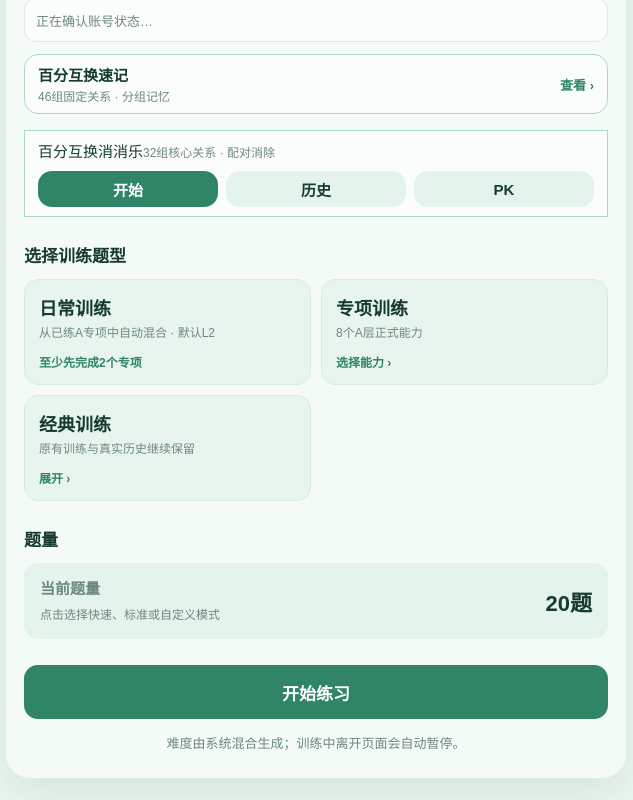
it: Home active-session interactions › starts a new active session and enters the training view when none exists
(page scrolled)
Click the button "开始练习" at (316, 692), box [24,665,608,719]
(page scrolled)
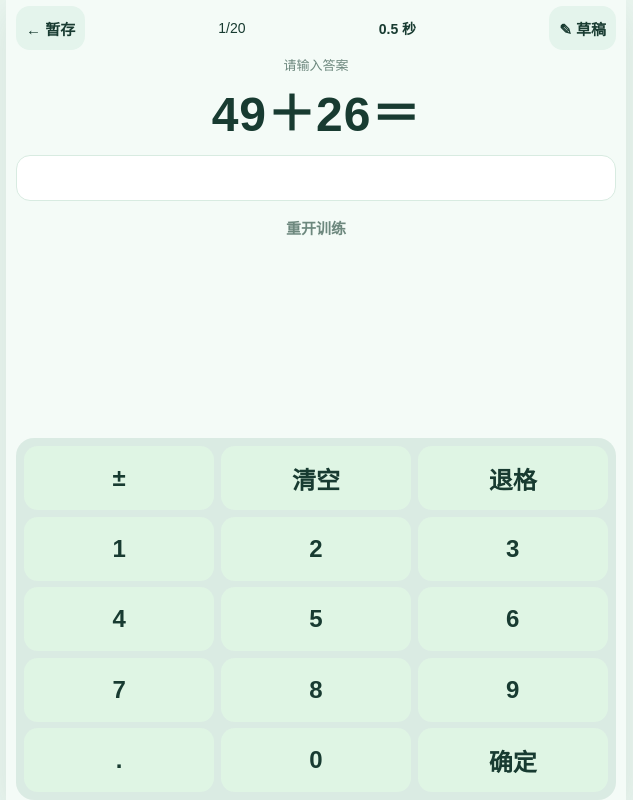
Result: the button "重开训练" is shown at [16,206,616,250]
